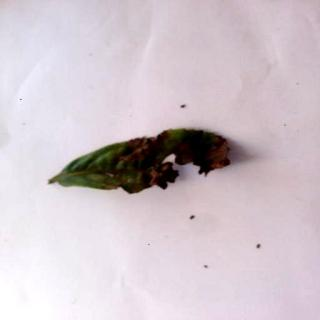Algal Leaf: (49, 128, 233, 197)
